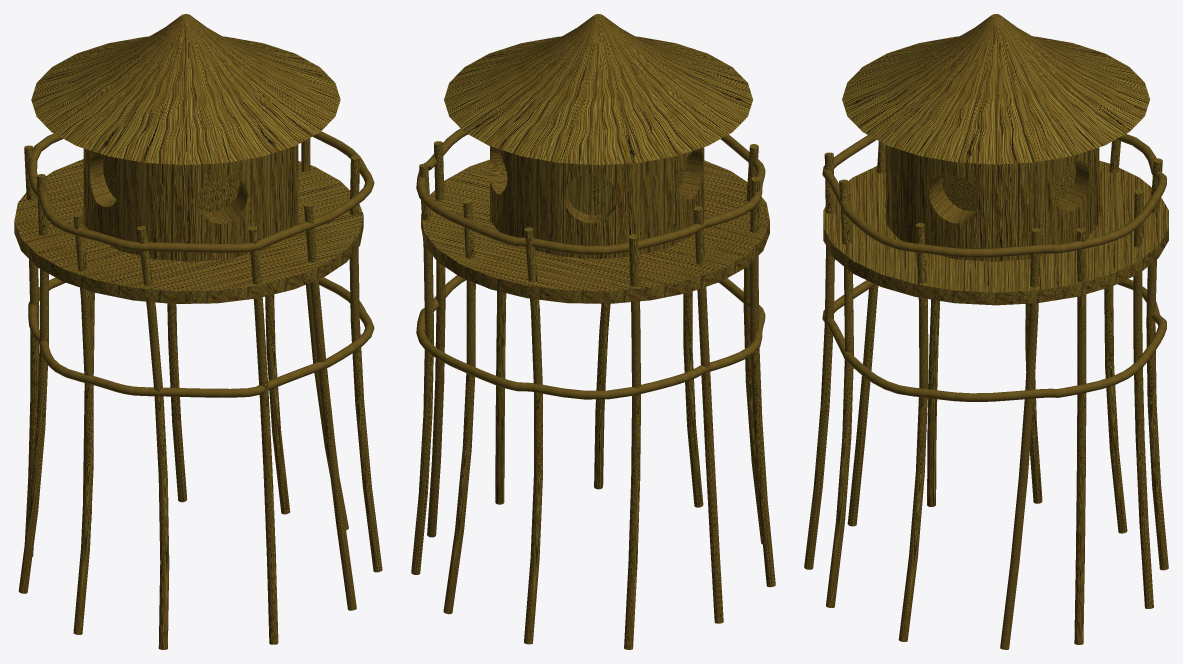
Rendered from towerSpin.FBX.
3 views of the same model, side by side, from view 1: azimuth 30°, elevation 25°; view 2: azimuth 150°, elevation 25°; view 3: azimuth 270°, elevation 25° (orthographic).
Visible parts, largest first — view 1: Cylinder002, Cylinder001; view 2: Cylinder002, Cylinder001; view 3: Cylinder002, Cylinder001.
Boxes of the visible parts, x1,y1,x2,y2 form: Cylinder002: (14, 131, 382, 649); Cylinder001: (31, 14, 340, 261); Cylinder002: (411, 128, 775, 649); Cylinder001: (444, 14, 752, 259); Cylinder002: (804, 134, 1168, 649); Cylinder001: (842, 14, 1149, 261).
Bounding box in the file's own units: 73.38 × 126 × 73.89.
